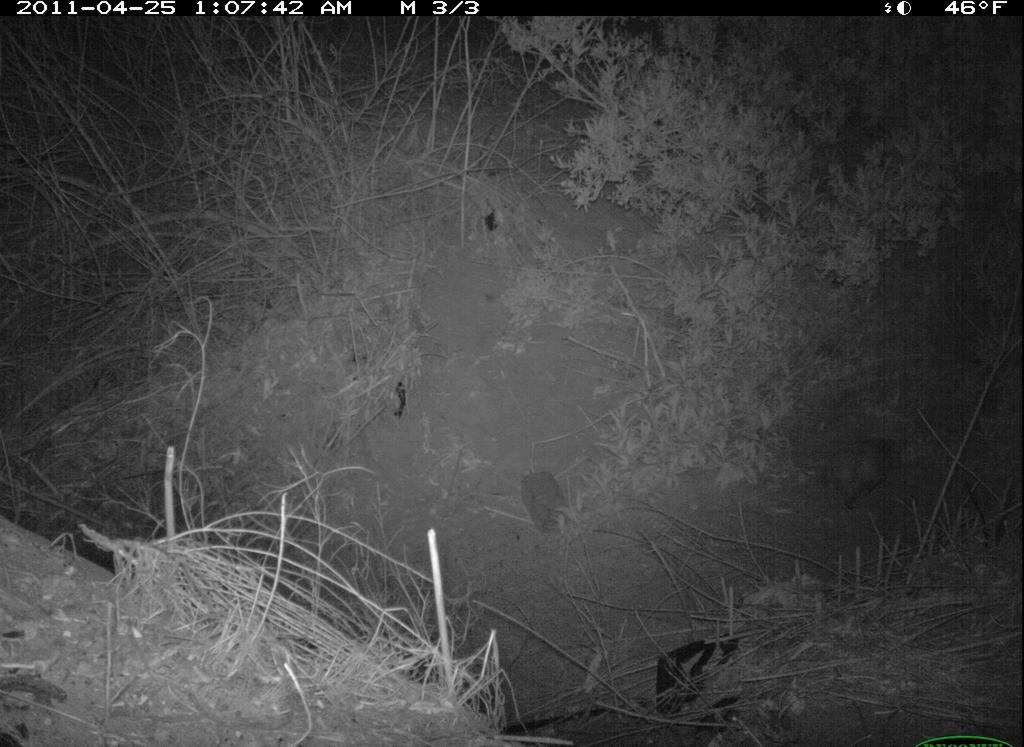opossum: (803, 428, 908, 516)
